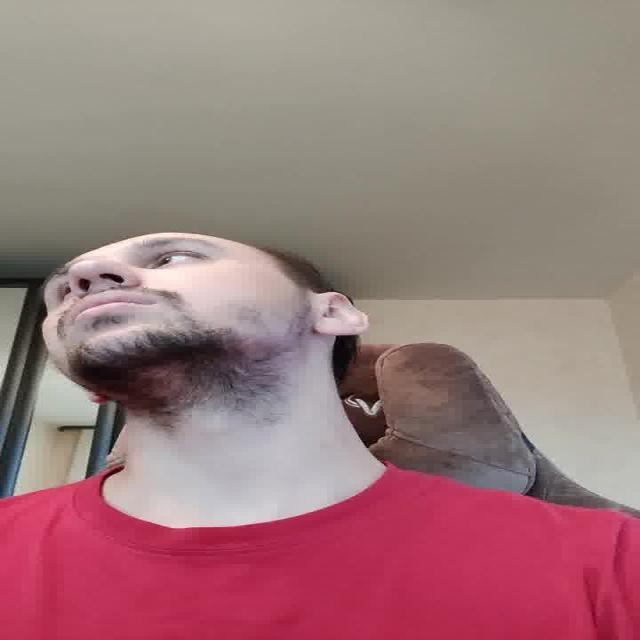earlobe: (314, 322, 362, 336), (80, 390, 112, 406)
eye: (146, 253, 205, 266), (58, 283, 73, 300)
nose: (73, 280, 138, 294)
wholeear: (312, 290, 372, 336)
